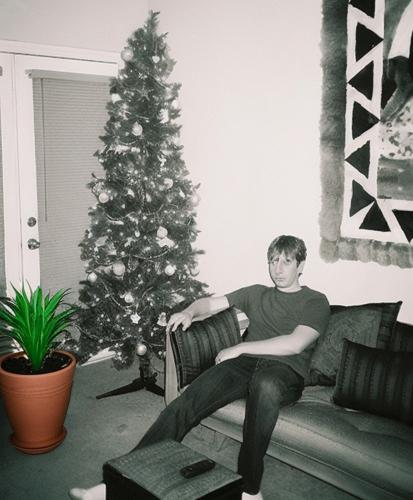person: (67, 235, 333, 500)
person/foot: (68, 482, 106, 500), (242, 491, 267, 500)
person/hand: (163, 309, 193, 333), (214, 347, 242, 362)
person/head: (263, 236, 312, 291)
pottedplant: (1, 279, 75, 458)
sofa: (163, 304, 413, 500)
